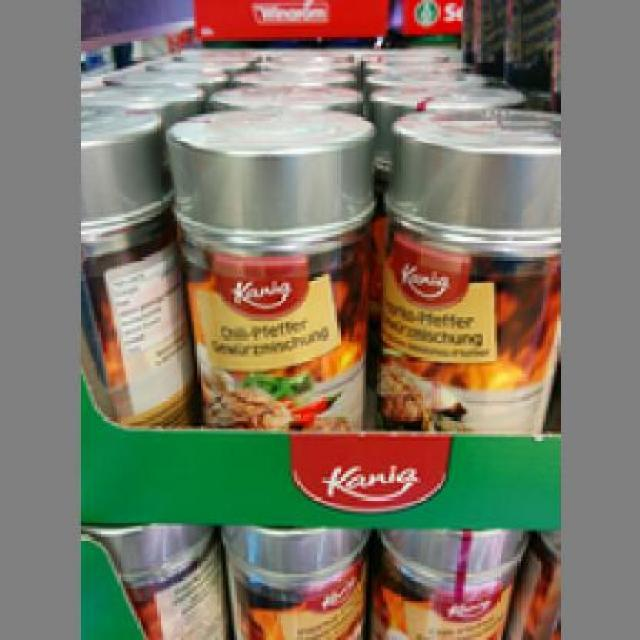Spices: (163, 102, 377, 428), (377, 109, 560, 428), (77, 106, 186, 423)
